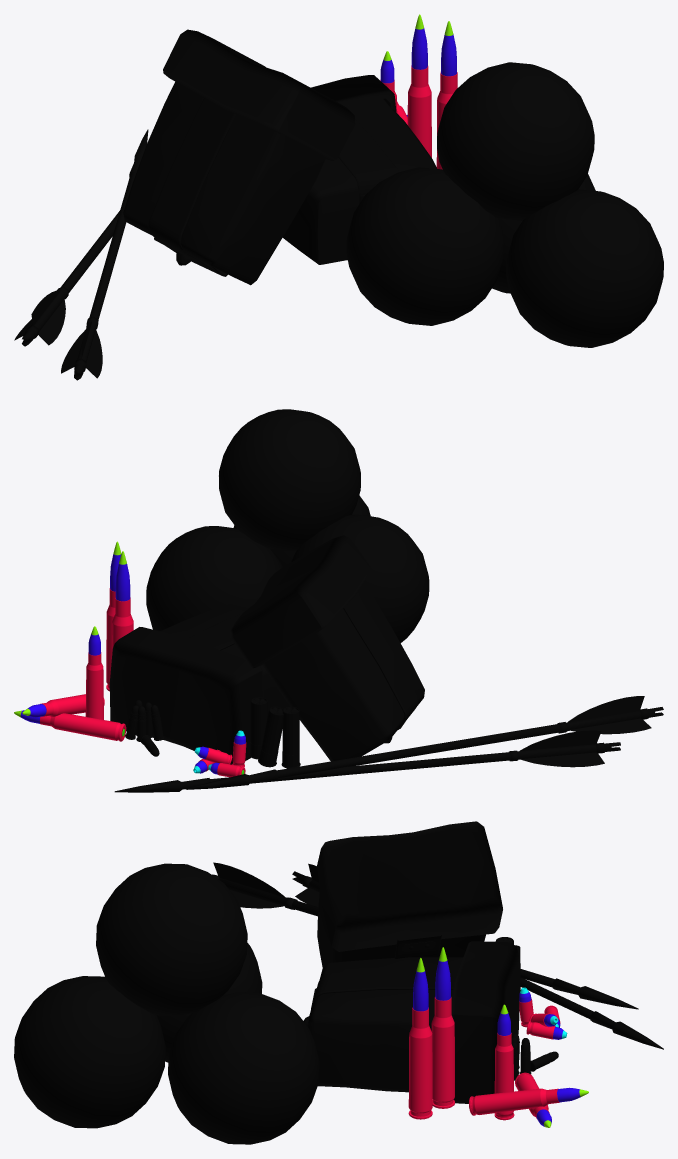
File: C_ammoBag.fbx
3 renders of one model, top to bottom at view 1: azimuth 30°, elevation 25°; view 2: azimuth 150°, elevation 25°; view 3: azimuth 270°, elevation 25°, orthographic. The views are drawn at different scales.
Visible parts, largest first — view 1: C_ammoBag; view 2: C_ammoBag; view 3: C_ammoBag.
Part boxes in pixels (box(x1,y1,x2,y2)): C_ammoBag: box(14, 14, 663, 380); C_ammoBag: box(14, 409, 663, 792); C_ammoBag: box(14, 821, 663, 1144).
Size of the model in its own units: 0.9872 by 0.4416 by 1.06.
